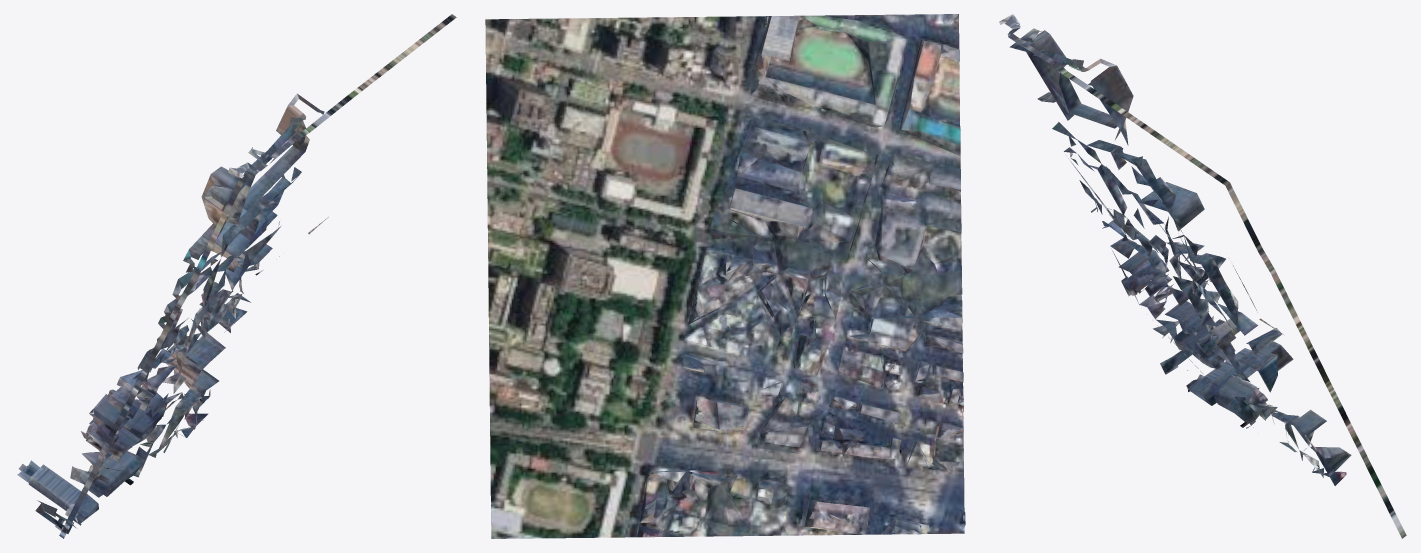
The picture shows the model from 3 angles, left to right: view 1: azimuth 30°, elevation 25°; view 2: azimuth 150°, elevation 25°; view 3: azimuth 270°, elevation 25°; orthographic projection. The views are drawn at different scales.
Size of the model in its own units: 629 by 575 by 516.
Materials: 2 (2 with a texture image).
